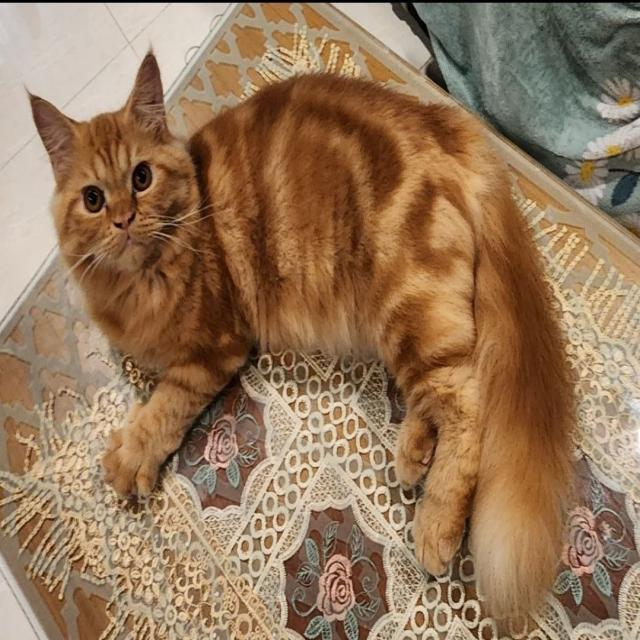da khoe manh: (227, 145, 478, 318)
